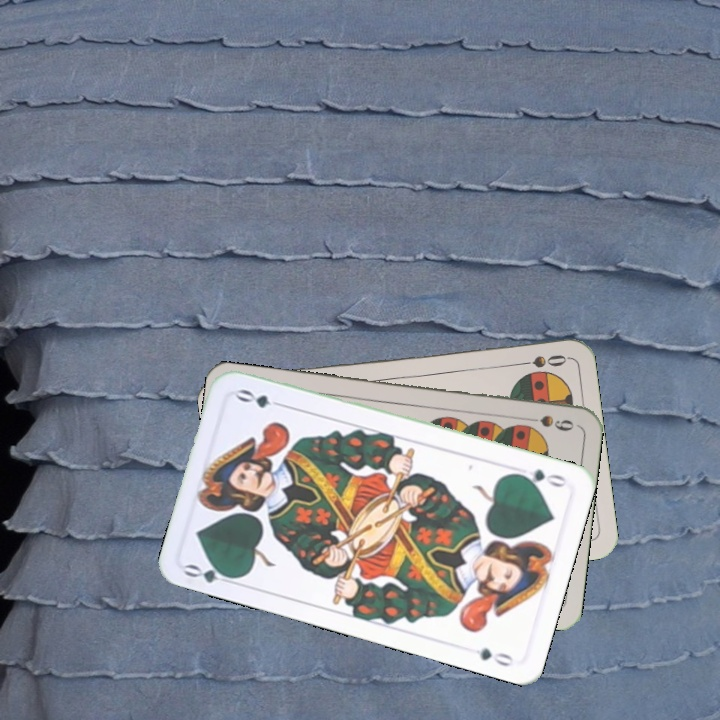GO: (180, 558, 240, 588), (511, 465, 569, 490)
S9: (518, 411, 577, 434)
SO: (510, 350, 569, 370)
